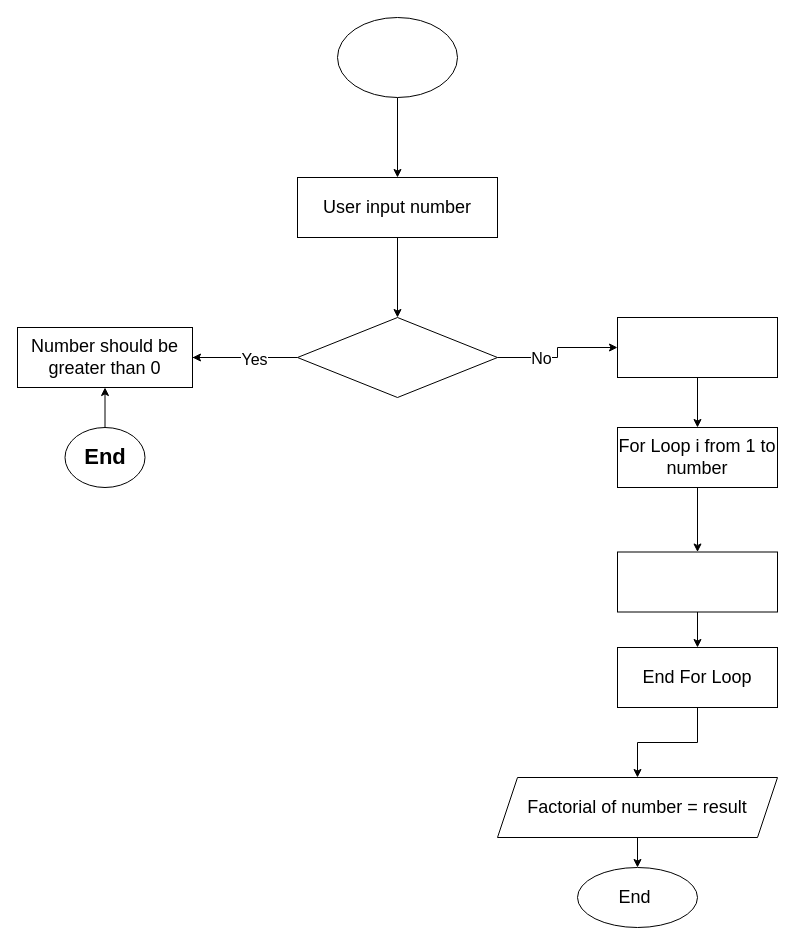
Some shapes in this 795 by 945 pixel diagram are drawn without their labels. Here are the shapes that lost their labels. From the top down, the centre of each, then its label:
At point (397, 57): "Start".
At point (397, 357): "if number < 0".
At point (697, 347): "initialize result = 1".
At point (697, 581): "result = result * i".
